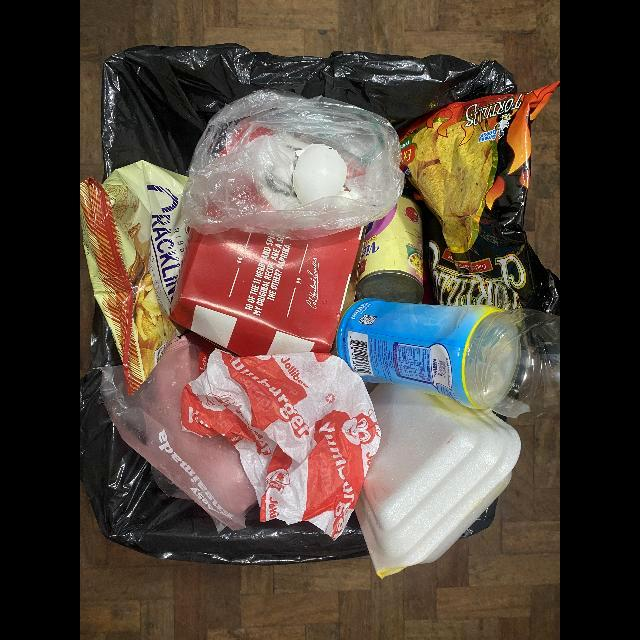aluminum: (356, 195, 424, 304)
cardboard: (169, 227, 364, 358)
food_wrapper: (396, 81, 560, 316), (100, 337, 257, 532), (80, 160, 189, 396)
paper: (180, 349, 381, 540)
plastic_bag: (179, 89, 406, 241)
plastic_bottle: (335, 298, 560, 423)
